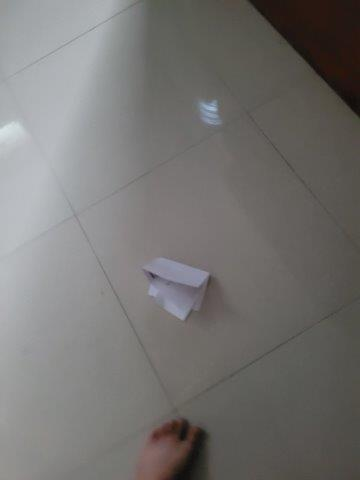kertas: (141, 261, 207, 318)
